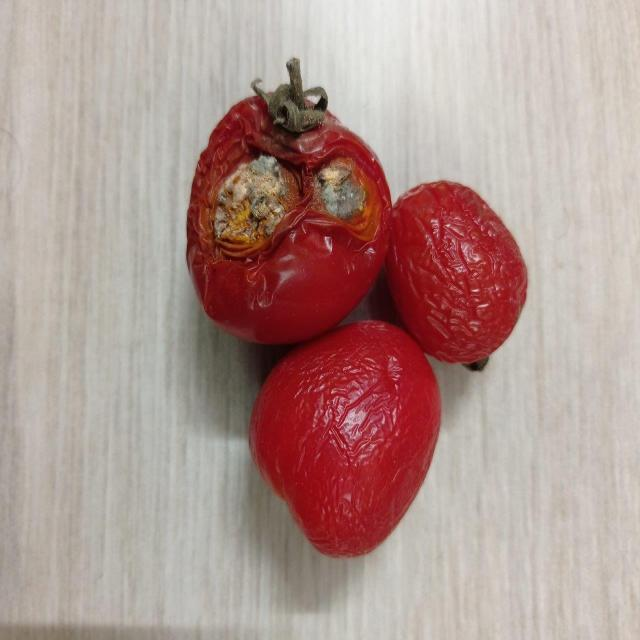Rotten: (186, 90, 393, 346)
overripe: (247, 318, 443, 558)
